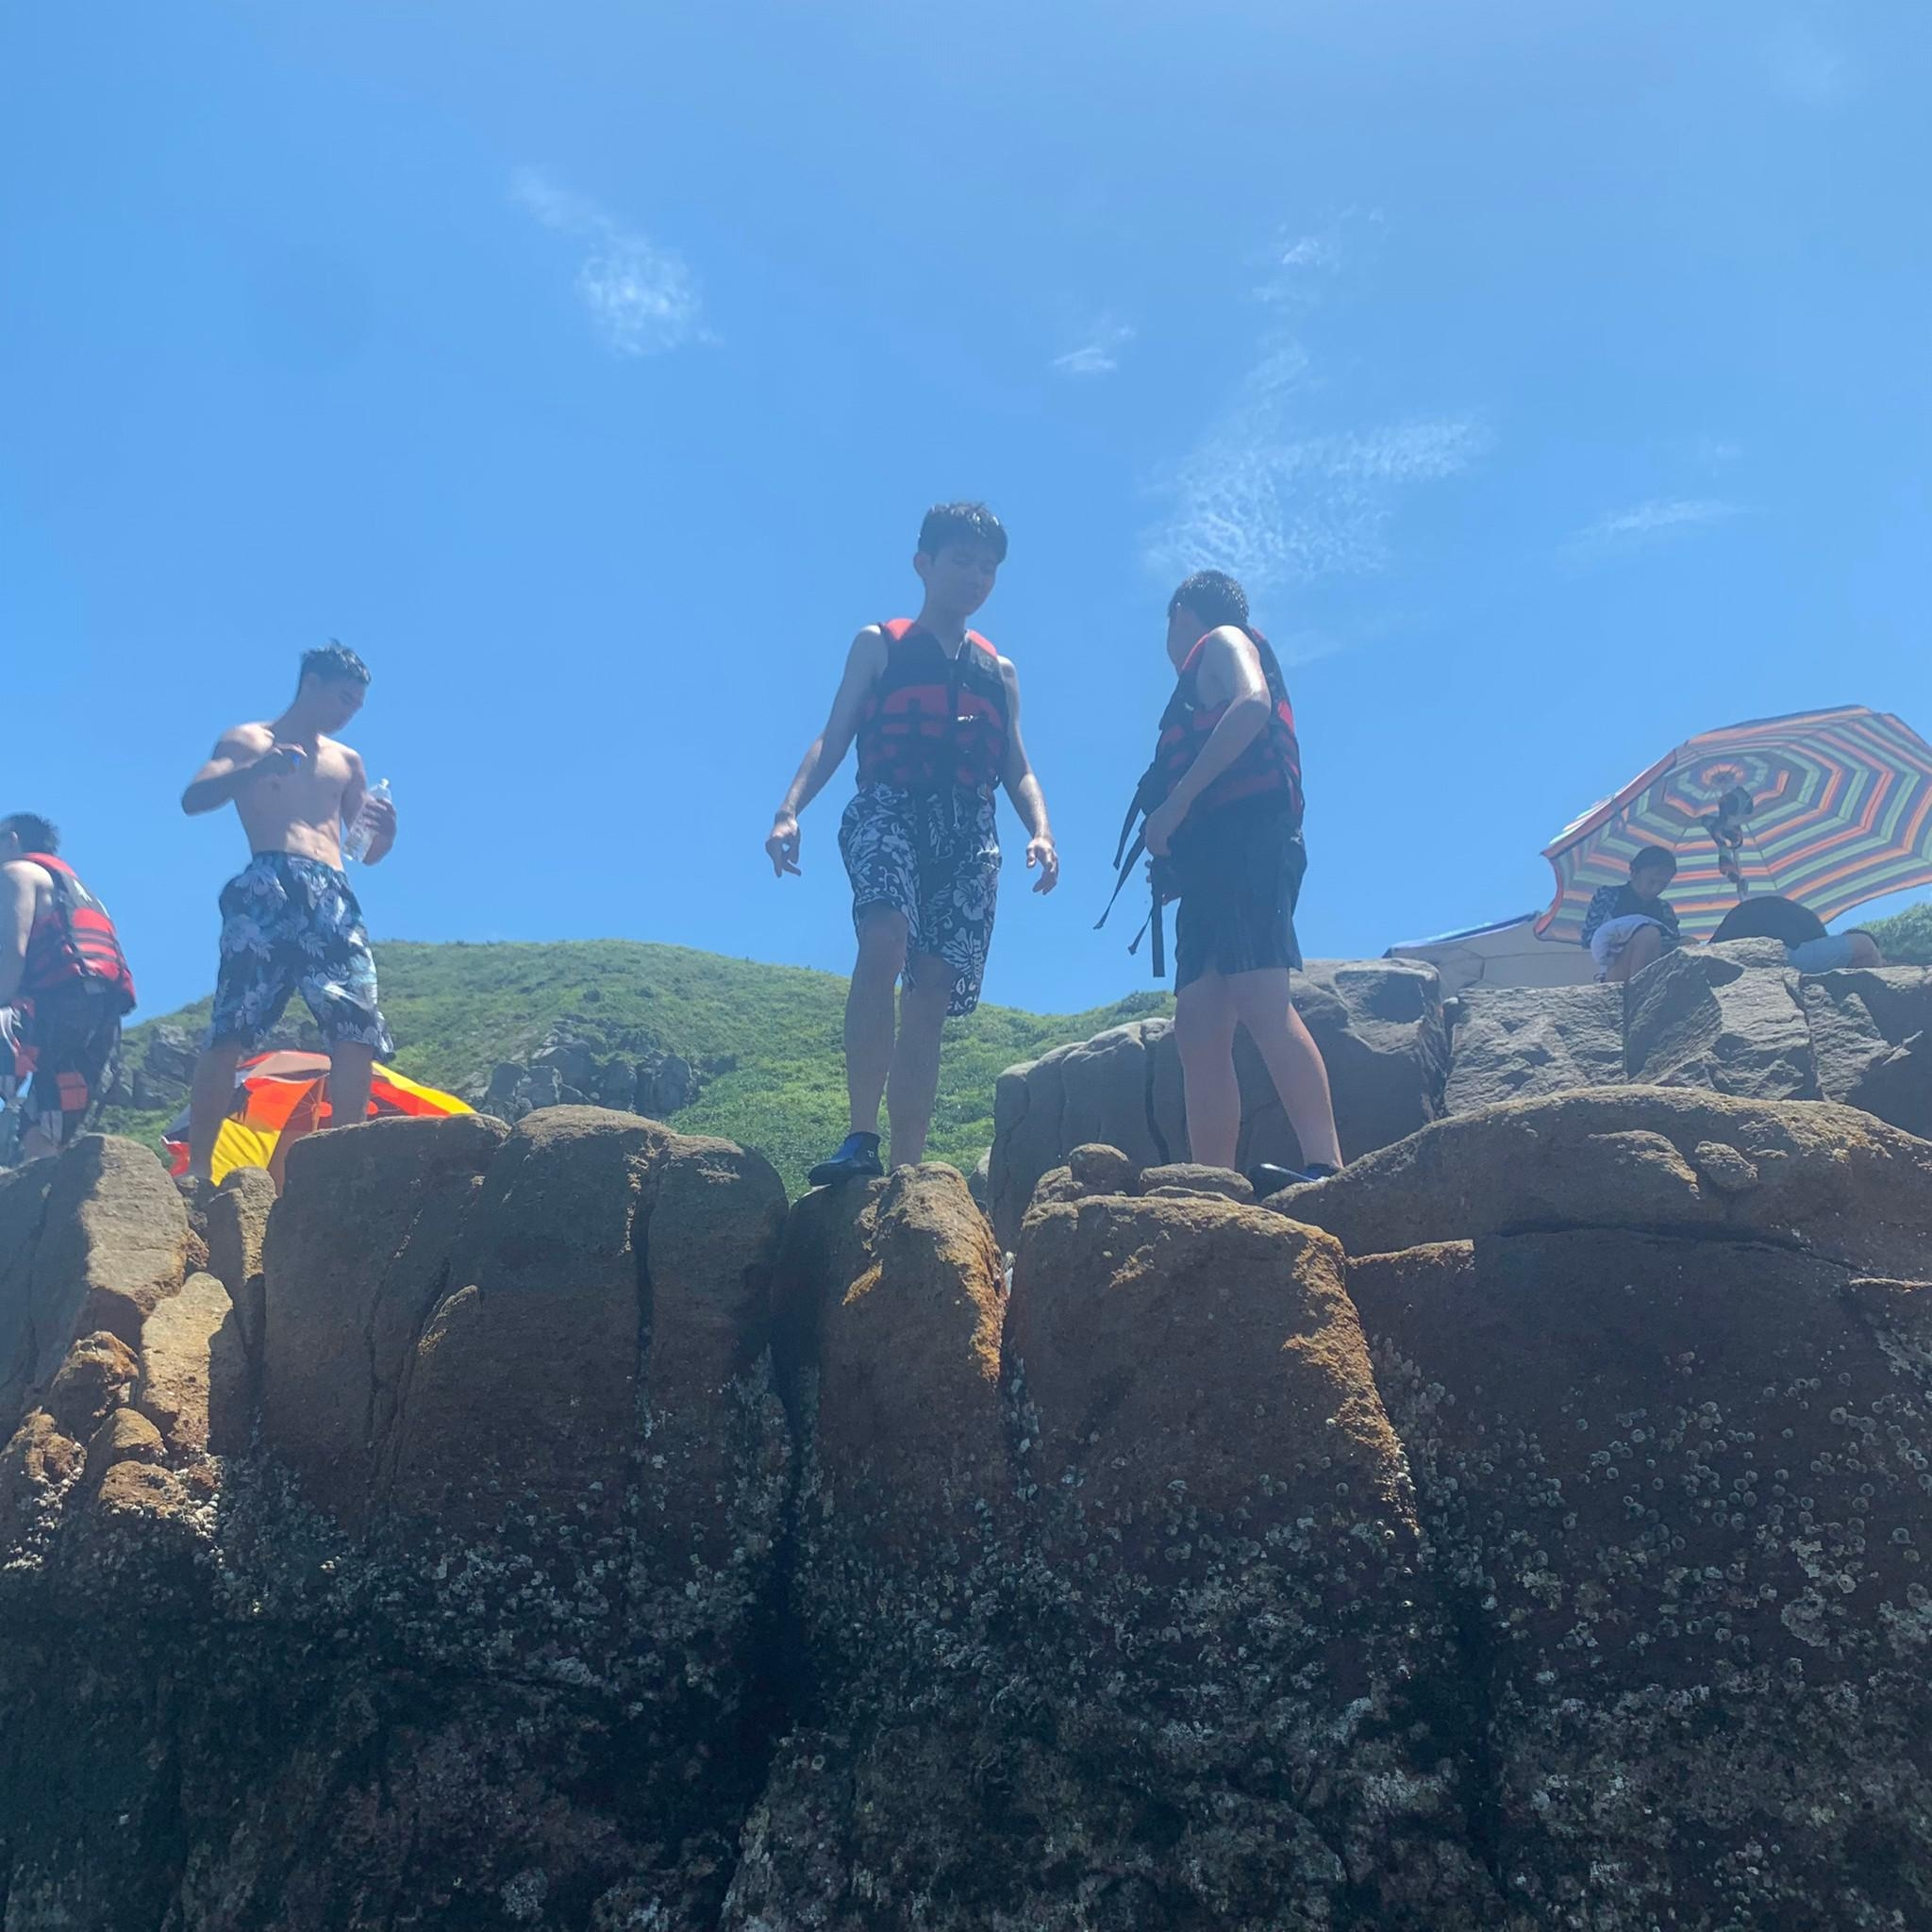people: (830, 513, 1022, 1180), (1159, 583, 1351, 1189), (216, 641, 383, 1137), (8, 808, 134, 1137), (1594, 858, 1679, 970)
